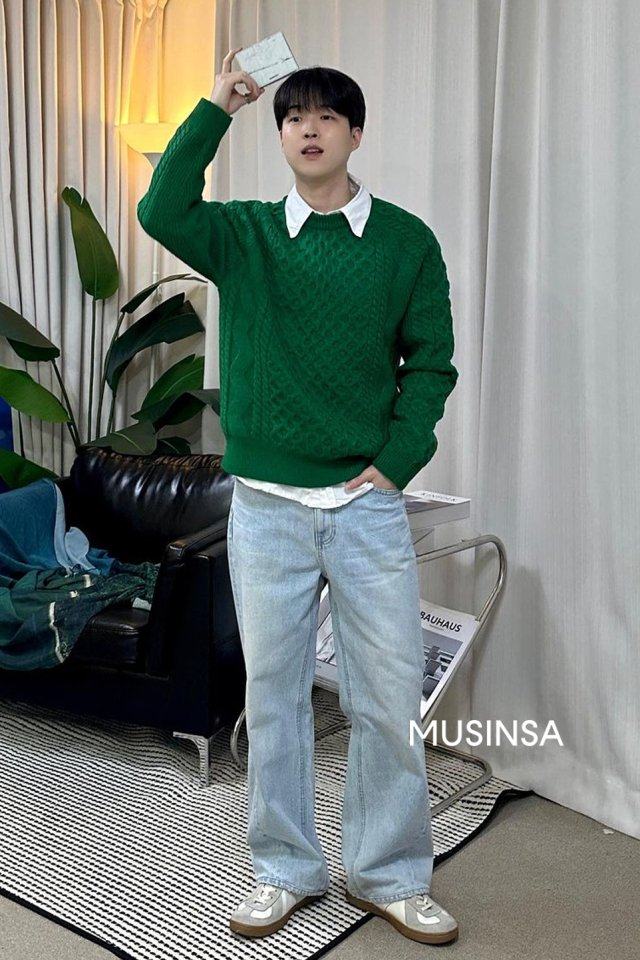Jeans: (213, 464, 457, 904)
Shoes: (216, 869, 469, 951)
Top: (135, 176, 461, 499)
